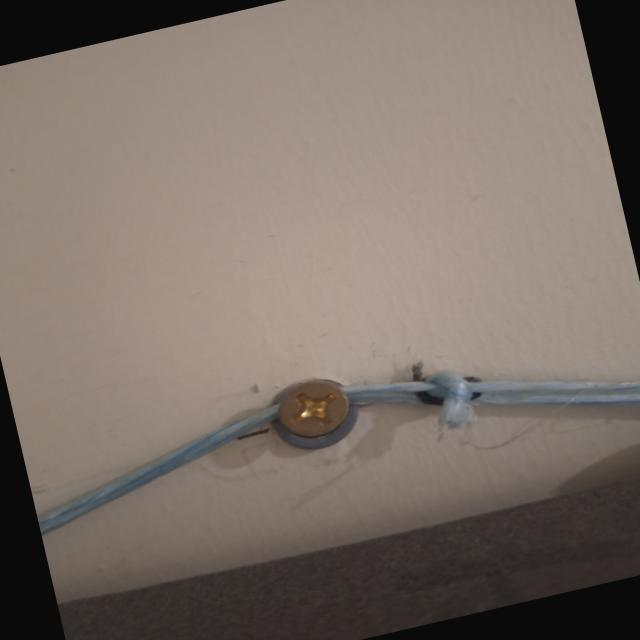Phillips: (272, 377, 348, 439)
